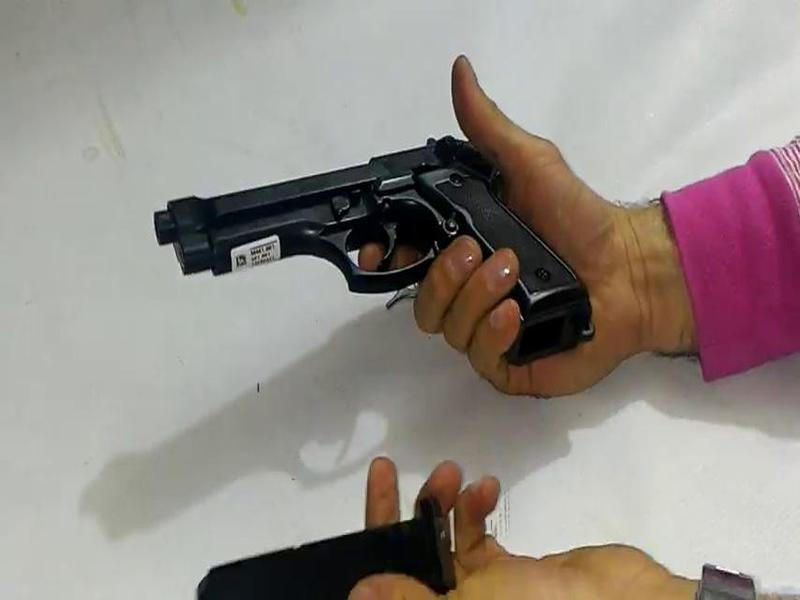Pistola: (144, 134, 612, 351)
